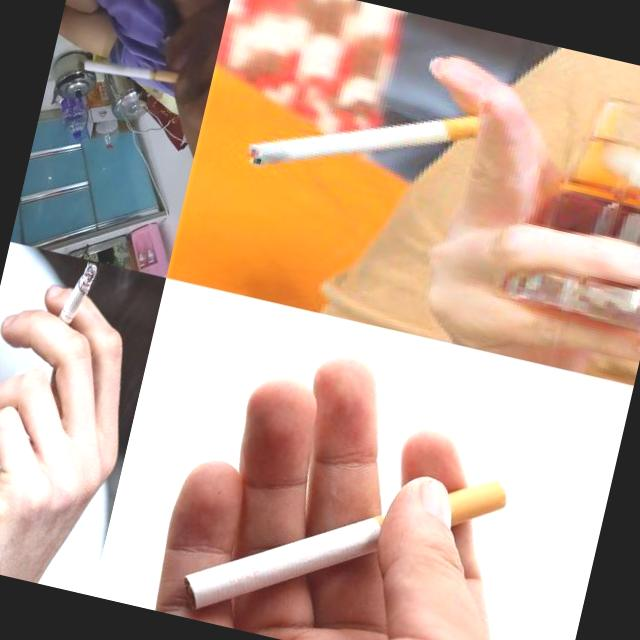smoke: (177, 414, 512, 640), (241, 62, 493, 216), (49, 256, 98, 346), (81, 51, 179, 92)
